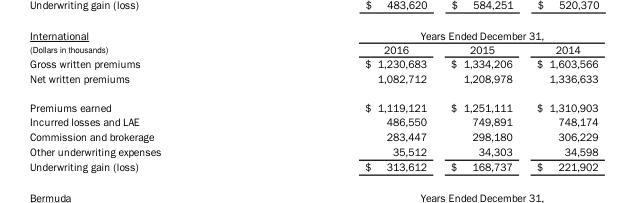table: (29, 28, 597, 172)
table column: (29, 28, 262, 172), (262, 28, 438, 172), (438, 28, 523, 172), (523, 28, 597, 172)
table column header: (29, 28, 597, 56)
table row: (29, 70, 597, 92), (29, 92, 597, 114), (29, 128, 597, 143), (29, 143, 597, 158), (29, 28, 597, 42), (29, 42, 597, 56), (29, 56, 597, 70), (29, 114, 597, 128), (29, 158, 597, 172)
table spanning cell: (29, 28, 262, 56), (262, 28, 597, 42)
